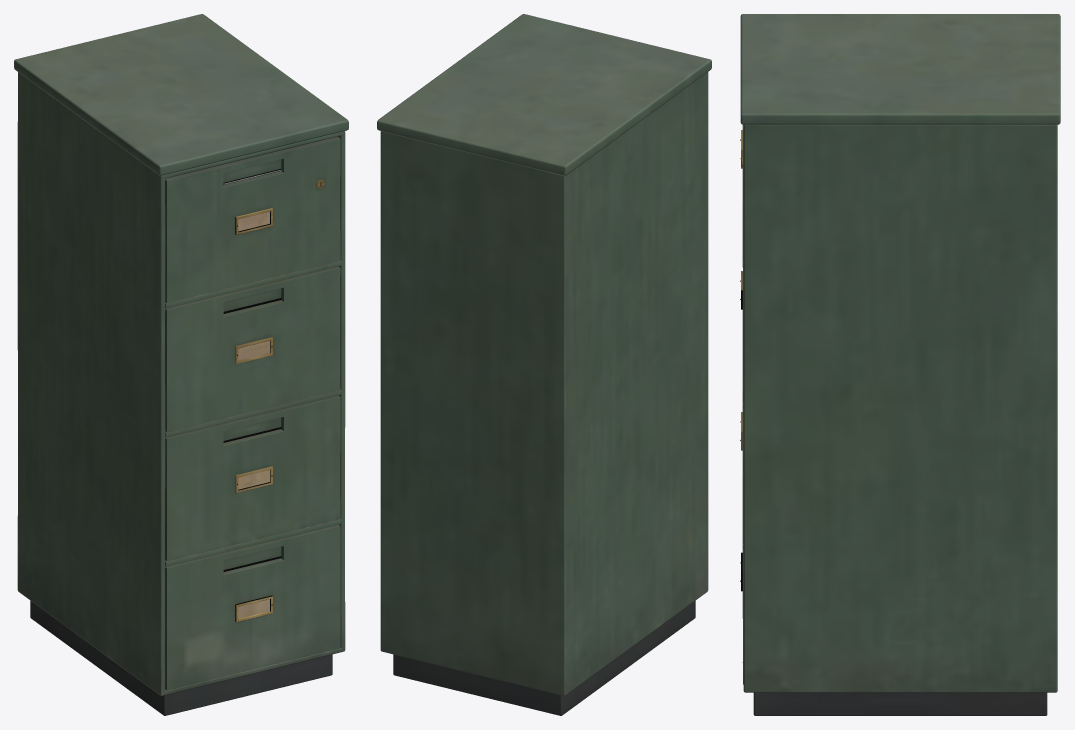
Rendered from filing-cabinet-4.glb.
3 renders of one model, left to right at view 1: azimuth 30°, elevation 25°; view 2: azimuth 150°, elevation 25°; view 3: azimuth 270°, elevation 25°, orthographic. The views are drawn at different scales.
Visible parts, largest first — view 1: cabinet, drawer_1, drawer_2, drawer_4, drawer_3; view 2: cabinet; view 3: cabinet.
Part boxes in pixels (x1=…): cabinet: x1=14, y1=14, x2=348, y2=715; drawer_1: x1=165, y1=136, x2=340, y2=302; drawer_2: x1=165, y1=266, x2=340, y2=432; drawer_4: x1=165, y1=524, x2=340, y2=690; drawer_3: x1=165, y1=395, x2=340, y2=561; cabinet: x1=377, y1=14, x2=711, y2=715; cabinet: x1=740, y1=14, x2=1060, y2=715.
Size of the model in its own units: 0.472 by 1.33 by 0.6324.
1 material, 1 textured.
